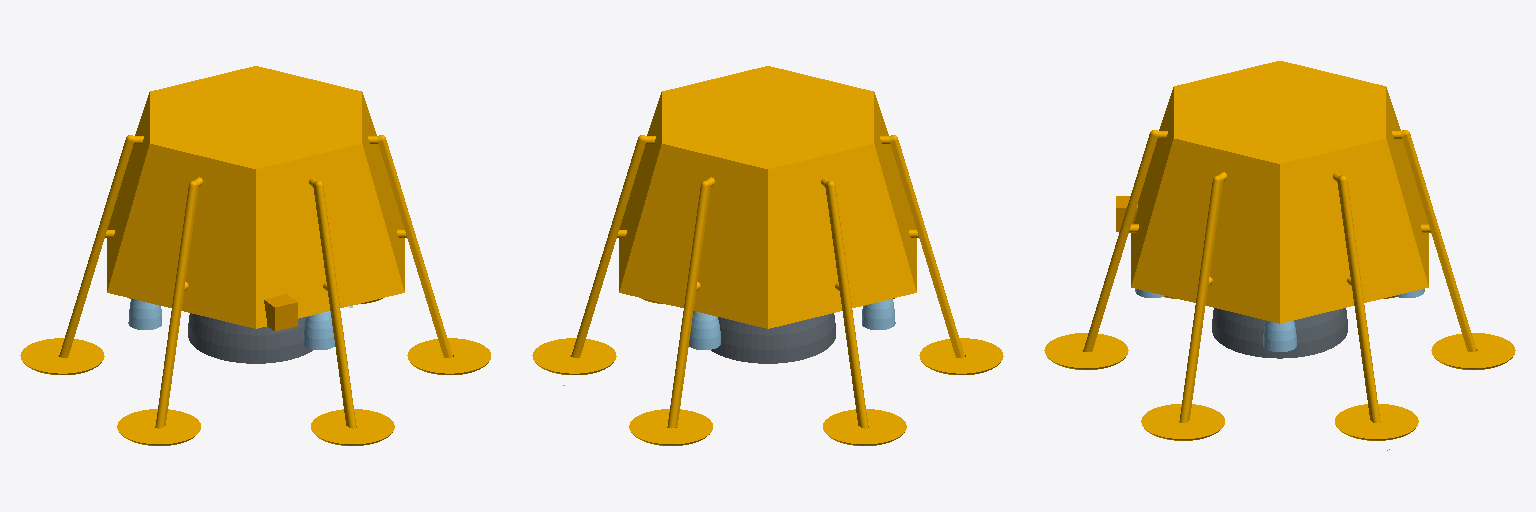
robot.urdf — lander:
<robot name="lander" version="1.0">
  <joint name="camera_joint" type="fixed">
    <origin rpy="0.00000 0.00000 0.00000" xyz="-0.89873 -2.33125 0.06618"/>
    <parent link="root"/>
    <child link="camera_link"/>
  </joint>
  <joint name="leg1joint" type="fixed">
    <origin rpy="0.00000 0.00000 0.00000" xyz="-0.01575 2.90989 -1.69408"/>
    <parent link="root"/>
    <child link="leg1_link"/>
  </joint>
  <joint name="leg2joint" type="fixed">
    <origin rpy="0.00000 0.00000 0.00000" xyz="-2.53596 1.47652 -1.69408"/>
    <parent link="root"/>
    <child link="leg2_link"/>
  </joint>
  <joint name="leg3joint" type="fixed">
    <origin rpy="0.00000 0.00000 0.00000" xyz="-2.53596 -1.41384 -1.69408"/>
    <parent link="root"/>
    <child link="leg3_link"/>
  </joint>
  <joint name="leg4joint" type="fixed">
    <origin rpy="0.00000 0.00000 0.00000" xyz="-0.01827 -2.89950 -1.69408"/>
    <parent link="root"/>
    <child link="leg4_link"/>
  </joint>
  <joint name="leg5joint" type="fixed">
    <origin rpy="0.00000 0.00000 0.00000" xyz="2.49941 -1.45920 -1.69408"/>
    <parent link="root"/>
    <child link="leg5_link"/>
  </joint>
  <joint name="leg6joint" type="fixed">
    <origin rpy="0.00000 0.00000 0.00000" xyz="2.47673 1.43274 -1.69408"/>
    <parent link="root"/>
    <child link="leg6_link"/>
  </joint>
  <joint name="main_engine_joint" type="fixed">
    <origin rpy="0.00000 0.00000 0.00000" xyz="0.00000 0.00000 -1.15404"/>
    <parent link="root"/>
    <child link="engine_link"/>
  </joint>
  <joint name="thruster1-joint" type="fixed">
    <origin rpy="0.00000 0.00000 0.00000" xyz="1.87124 0.00000 -0.36720"/>
    <parent link="root"/>
    <child link="thruster1-link"/>
  </joint>
  <joint name="thruster2-joint" type="fixed">
    <origin rpy="0.00000 0.00000 0.00000" xyz="0.00000 1.89393 -0.36720"/>
    <parent link="root"/>
    <child link="thruster2-link"/>
  </joint>
  <joint name="thruster4-joint" type="fixed">
    <origin rpy="0.00000 0.00000 0.00000" xyz="0.00000 -1.88259 -0.36720"/>
    <parent link="root"/>
    <child link="thruster4-link"/>
  </joint>
  <joint name="thruster_3_joint" type="fixed">
    <origin rpy="0.00000 0.00000 0.00000" xyz="-1.89730 0.00000 -0.32084"/>
    <parent link="root"/>
    <child link="thruster3_link"/>
  </joint>
  <link name="camera_link">
    <inertial>
      <inertia ixx="1" ixy="1" ixz="1" iyy="1" iyz="1" izz="1"/>
      <origin rpy="0.00000 0.00000 0.00000" xyz="-0.00369 0.08344 0.15420"/>
      <mass value="1"/>
    </inertial>
    <sensor name="camera" type="camera">
      <origin rpy="0.00000 0.00000 0.00000" xyz="0.00000 0.00000 0.00000"/>
      <parent link="camera_link"/>
      <camera>
        <image>
          <width>640</width>
          <height>480</height>
          <hfov>1.57080</hfov>
        </image>
      </camera>
    </sensor>
    <visual name="camera">
      <origin rpy="0.00000 0.00000 0.00000" xyz="-0.00369 0.08344 0.15420"/>
      <geometry>
        <box size="0.39784 0.39784 0.39784"/>
      </geometry>
    </visual>
  </link>
  <link name="engine_link">
    <inertial>
      <inertia ixx="6.62880" ixy="-0.00001" ixz="0.00166" iyy="6.62881" iyz="0.00166" izz="8.49671"/>
      <origin rpy="0.00000 0.00000 0.00000" xyz="-0.01222 0.01470 0.46571"/>
      <mass value="8.41"/>
    </inertial>
    <visual name="main_engine">
      <origin rpy="0.00000 0.00000 -0.00000" xyz="-0.16212 0.09534 1.06200"/>
      <material name="0.439216_0.474510_0.501961_0.000000_0.000000"/>
      <geometry>
        <mesh filename="../meshes/obj/mesh0.obj" scale="127.63808 127.63806 127.63803"/>
      </geometry>
    </visual>
  </link>
  <link name="leg1_link">
    <collision name="leg1_collision">
      <origin rpy="0.00000 0.00000 0.00000" xyz="0.00000 0.00000 0.00000"/>
      <geometry>
        <cylinder radius="0.63141" length="0.00000"/>
      </geometry>
    </collision>
    <inertial>
      <inertia ixx="0.49834" ixy="0.00000" ixz="0.00000" iyy="0.49834" iyz="0.00000" izz="0.99669"/>
      <origin rpy="0.00000 0.00000 0.00000" xyz="0.00000 0.00000 0.00000"/>
      <mass value="10.00000"/>
    </inertial>
    <sensor name="leg1contact" type="contact">
      <parent link="leg1_link"/>
      <contact>
        <collision>leg1_link</collision>
      </contact>
    </sensor>
    <visual name="leg1">
      <origin rpy="0.00000 0.00000 0.00000" xyz="0.00000 -0.00000 -0.00000"/>
      <geometry>
        <mesh filename="../meshes/obj/Plane.obj" scale="0.26492 0.26492 0.26492"/>
      </geometry>
    </visual>
  </link>
  <link name="leg2_link">
    <collision name="leg2_collision">
      <origin rpy="0.00000 0.00000 0.00000" xyz="0.00000 0.00000 0.00000"/>
      <geometry>
        <cylinder radius="0.62326" length="0.00000"/>
      </geometry>
    </collision>
    <inertial>
      <inertia ixx="0.48557" ixy="0.00000" ixz="0.00000" iyy="0.48557" iyz="0.00000" izz="0.97115"/>
      <origin rpy="0.00000 0.00000 0.00000" xyz="0.00000 0.00000 0.00000"/>
      <mass value="10.00000"/>
    </inertial>
    <sensor name="leg2contact" type="contact">
      <parent link="leg2_link"/>
      <contact>
        <collision>leg2_link</collision>
      </contact>
    </sensor>
    <visual name="leg2">
      <origin rpy="0.00000 0.00000 0.00000" xyz="0.00000 0.00000 -0.00000"/>
      <geometry>
        <mesh filename="../meshes/obj/Plane.001.obj" scale="0.26492 0.26492 0.26492"/>
      </geometry>
    </visual>
  </link>
  <link name="leg3_link">
    <collision name="leg3_collision">
      <origin rpy="0.00000 0.00000 0.00000" xyz="0.00912 -0.02735 0.00000"/>
      <geometry>
        <cylinder radius="0.62540" length="0.00000"/>
      </geometry>
    </collision>
    <inertial>
      <inertia ixx="0.48891" ixy="0.00000" ixz="0.00000" iyy="0.48891" iyz="0.00000" izz="0.97781"/>
      <origin rpy="0.00000 0.00000 0.00000" xyz="0.00912 -0.02735 0.00000"/>
      <mass value="10.00000"/>
    </inertial>
    <sensor name="leg3contact" type="contact">
      <parent link="leg3_link"/>
      <contact>
        <collision>leg3_link</collision>
      </contact>
    </sensor>
    <visual name="leg3">
      <origin rpy="0.00000 0.00000 0.00000" xyz="0.00000 0.00000 -0.00000"/>
      <geometry>
        <mesh filename="../meshes/obj/Plane.002.obj" scale="0.26492 0.26492 0.26492"/>
      </geometry>
    </visual>
  </link>
  <link name="leg4_link">
    <collision name="leg4_collision">
      <origin rpy="0.00000 0.00000 0.00000" xyz="0.00000 0.00000 0.00000"/>
      <geometry>
        <cylinder radius="0.63548" length="0.00000"/>
      </geometry>
    </collision>
    <inertial>
      <inertia ixx="0.50479" ixy="0.00000" ixz="0.00000" iyy="0.50479" iyz="0.00000" izz="1.00958"/>
      <origin rpy="0.00000 0.00000 0.00000" xyz="0.00000 0.00000 0.00000"/>
      <mass value="10.00000"/>
    </inertial>
    <sensor name="leg4contact" type="contact">
      <parent link="leg4_link"/>
      <contact>
        <collision>leg4_link</collision>
      </contact>
    </sensor>
    <visual name="leg4">
      <origin rpy="0.00000 0.00000 0.00000" xyz="0.00000 0.00000 -0.00000"/>
      <geometry>
        <mesh filename="../meshes/obj/Plane.003.obj" scale="0.26492 0.26492 0.26492"/>
      </geometry>
    </visual>
  </link>
  <link name="leg5_link">
    <collision name="leg5_collision">
      <origin rpy="0.00000 0.00000 0.00000" xyz="0.00000 0.00000 0.00000"/>
      <geometry>
        <cylinder radius="0.63086" length="0.00000"/>
      </geometry>
    </collision>
    <inertial>
      <inertia ixx="0.49748" ixy="0.00000" ixz="0.00000" iyy="0.49748" iyz="0.00000" izz="0.99496"/>
      <origin rpy="0.00000 0.00000 0.00000" xyz="0.00000 0.00000 0.00000"/>
      <mass value="10.00000"/>
    </inertial>
    <sensor name="leg5contact" type="contact">
      <parent link="leg5_link"/>
      <contact>
        <collision>leg5_link</collision>
      </contact>
    </sensor>
    <visual name="leg5">
      <origin rpy="0.00000 0.00000 0.00000" xyz="0.00000 0.00000 -0.00000"/>
      <geometry>
        <mesh filename="../meshes/obj/Plane.004.obj" scale="0.26492 0.26492 0.26492"/>
      </geometry>
    </visual>
  </link>
  <link name="leg6_link">
    <collision name="leg6_collision">
      <origin rpy="0.00000 0.00000 0.05065" xyz="0.01367 0.03190 0.00000"/>
      <geometry>
        <cylinder radius="0.64485" length="0.00000"/>
      </geometry>
    </collision>
    <inertial>
      <inertia ixx="0.51979" ixy="-0.00000" ixz="0.00000" iyy="0.51979" iyz="0.00000" izz="1.03958"/>
      <origin rpy="0.00000 0.00000 0.00000" xyz="0.01367 0.03190 0.00000"/>
      <mass value="10.00000"/>
    </inertial>
    <sensor name="leg6contact" type="contact">
      <parent link="leg6_link"/>
      <contact>
        <collision>leg6_link</collision>
      </contact>
    </sensor>
    <visual name="leg6">
      <origin rpy="0.00000 0.00000 0.00000" xyz="0.00000 0.00000 -0.00000"/>
      <geometry>
        <mesh filename="../meshes/obj/Plane.005.obj" scale="0.26492 0.26492 0.26492"/>
      </geometry>
    </visual>
  </link>
  <link name="root">
    <collision name="main_body_collision">
      <origin rpy="0.00000 0.00000 -0.00000" xyz="-0.01162 -0.00500 1.07111"/>
      <geometry>
        <cylinder radius="2.86349" length="2.25537"/>
      </geometry>
    </collision>
    <inertial>
      <inertia ixx="439.25583" ixy="-0.02053" ixz="0.09009" iyy="439.36520" iyz="-0.17007" izz="433.21574"/>
      <origin rpy="0.00000 0.00000 0.00000" xyz="-0.01235 0.01476 0.38465"/>
      <mass value="400.00000"/>
    </inertial>
    <visual name="main_body">
      <origin rpy="0.00000 0.00000 -0.00000" xyz="2.40942 -0.73600 -0.03586"/>
      <material name="0.980392_0.713725_0.003922_0.000000_0.000000"/>
      <geometry>
        <mesh filename="../meshes/obj/mesh33.obj" scale="127.63807 127.63808 127.63806"/>
      </geometry>
    </visual>
  </link>
  <link name="thruster1-link">
    <inertial>
      <inertia ixx="1.39061" ixy="-0.17639" ixz="0.19371" iyy="1.03550" iyz="0.46984" izz="0.73223"/>
      <origin rpy="0.00000 0.00000 0.00000" xyz="0.03277 0.01873 0.01038"/>
      <mass value="1.20000"/>
    </inertial>
    <visual name="thruster1">
      <origin rpy="0.00000 0.00000 -0.00000" xyz="-2.04768 0.25727 0.43010"/>
      <material name="0.615686_0.811765_0.929412_0.000000_0.000000"/>
      <geometry>
        <mesh filename="../meshes/obj/mesh6.002.obj" scale="127.63808 127.63805 127.63802"/>
      </geometry>
    </visual>
  </link>
  <link name="thruster2-link">
    <inertial>
      <inertia ixx="0.45765" ixy="-0.00000" ixz="-0.00000" iyy="0.45765" iyz="-0.00000" izz="0.23883"/>
      <origin rpy="0.00000 0.00000 0.00000" xyz="-0.01222 0.03534 0.01462"/>
      <mass value="1.20000"/>
    </inertial>
    <visual name="thruster2">
      <origin rpy="0.00000 0.00000 -0.00000" xyz="2.09579 -0.33206 -1.63090"/>
      <material name="0.615686_0.811765_0.929412_0.000000_0.000000"/>
      <geometry>
        <mesh filename="../meshes/obj/mesh6.obj" scale="127.63808 127.63805 127.63802"/>
      </geometry>
    </visual>
  </link>
  <link name="thruster3_link">
    <inertial>
      <inertia ixx="0.45765" ixy="-0.00000" ixz="-0.00000" iyy="0.45765" iyz="0.00000" izz="0.23883"/>
      <origin rpy="0.00000 0.00000 0.00000" xyz="-0.02954 0.01470 0.14238"/>
      <mass value="1.20000"/>
    </inertial>
    <visual name="thruster3">
      <origin rpy="0.00000 0.00000 -0.00000" xyz="3.99309 1.56186 -1.67368"/>
      <material name="0.615686_0.811765_0.929412_0.000000_0.000000"/>
      <geometry>
        <mesh filename="../meshes/obj/mesh6.000.obj" scale="127.63808 127.63806 127.63803"/>
      </geometry>
    </visual>
  </link>
  <link name="thruster4-link">
    <inertial>
      <inertia ixx="0.45765" ixy="-0.00000" ixz="-0.00000" iyy="0.45765" iyz="0.00000" izz="0.23883"/>
      <origin rpy="0.00000 0.00000 0.00000" xyz="-0.01222 -0.01729 0.01462"/>
      <mass value="1.20000"/>
    </inertial>
    <visual name="thruster4">
      <origin rpy="0.00000 0.00000 -0.00000" xyz="2.09579 3.44445 -1.63090"/>
      <material name="0.615686_0.811765_0.929412_0.000000_0.000000"/>
      <geometry>
        <mesh filename="../meshes/obj/mesh6.001.obj" scale="127.63808 127.63805 127.63802"/>
      </geometry>
    </visual>
  </link>
  <material name="0.439216_0.474510_0.501961_0.000000_0.000000">
    <color rgba="0.43529 0.47059 0.50196 1.00000"/>
  </material>
  <material name="0.615686_0.811765_0.929412_0.000000_0.000000">
    <color rgba="0.61569 0.81176 0.92549 1.00000"/>
  </material>
  <material name="0.980392_0.713725_0.003922_0.000000_0.000000">
    <color rgba="0.98039 0.70980 0.00392 1.00000"/>
  </material>
</robot>

--- Facts derived from the render (not from the file) ---
Views: 3 orthographic renders of the robot side by side, from view 1: azimuth 30°, elevation 25°; view 2: azimuth 150°, elevation 25°; view 3: azimuth 270°, elevation 25°.
Model lander with 13 links and 12 joints (12 fixed), rooted at root, posed every joint at zero.
Links seen in each view (by area): view 1: root, engine_link, camera_link, thruster4-link, thruster3_link; view 2: root, engine_link, thruster2-link, thruster3_link; view 3: root, engine_link, thruster1-link.
Link boxes in pixels (<box>): root: <box>20,66,490,445</box>; engine_link: <box>188,313,312,363</box>; camera_link: <box>264,294,297,331</box>; thruster4-link: <box>303,311,334,349</box>; thruster3_link: <box>128,299,161,329</box>; root: <box>532,66,1003,445</box>; engine_link: <box>711,313,835,363</box>; thruster2-link: <box>689,311,720,349</box>; thruster3_link: <box>862,299,895,329</box>; root: <box>1044,61,1515,440</box>; engine_link: <box>1212,308,1347,358</box>; thruster1-link: <box>1263,321,1389,450</box>.
Bounding box of the posed robot: 6.29 × 7.07 × 4.41 m (x, y, z).
7 mesh visuals loaded from 12 distinct referenced files (7 OBJ); not drawn: 5 (reference not matched to a file when rendering).